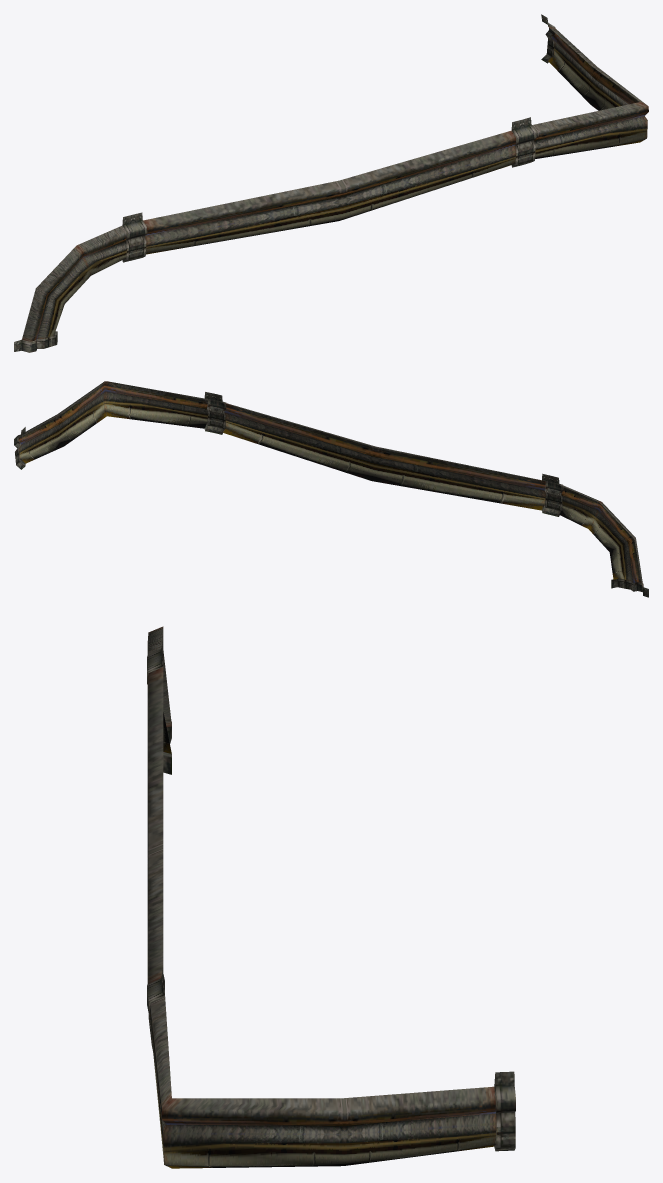
Rendered from M12_SidePipes_L.glb.
The picture shows the model from 3 angles, top to bottom: view 1: azimuth 30°, elevation 25°; view 2: azimuth 150°, elevation 25°; view 3: azimuth 270°, elevation 25°; orthographic projection. The views are drawn at different scales.
Parts seen in each view (by area): view 1: M12_SIDEPIPES_L; view 2: M12_SIDEPIPES_L; view 3: M12_SIDEPIPES_L.
Part boxes in pixels (bbox=[...]): M12_SIDEPIPES_L: bbox=[14, 14, 648, 352]; M12_SIDEPIPES_L: bbox=[14, 381, 648, 597]; M12_SIDEPIPES_L: bbox=[147, 626, 515, 1168].
Size of the model in its own units: 9.27 by 1.57 by 2.69.
Materials: 1 (1 with a texture image).
